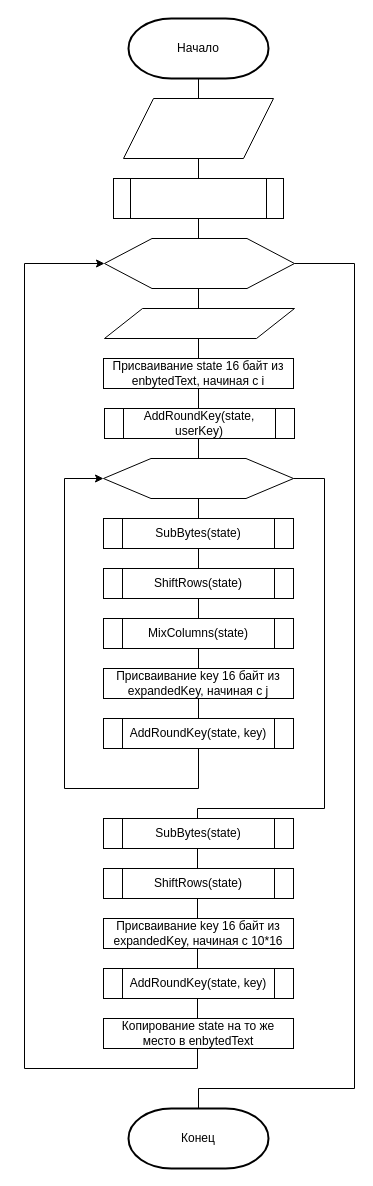
Image size: 373x1186. Some labels were removed from this diagram. Each missing label, with the centre of its shape:
enbytedText= =array[text.Length]: the point at 198,128
enbytedText= =FromTextToBytes(text): the point at 198,198
state=array[16]; key=array[16]: the point at 199,323
Проход по массиву enbytedText с шагом i=16: the point at 199,263
Цикл j от 1 до 10 (нестрого): the point at 198,478
